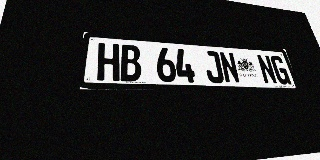4: (174, 48, 196, 83)
6: (155, 47, 177, 82)
B: (120, 44, 142, 82)
G: (269, 55, 292, 85)
H: (97, 43, 120, 81)
J: (202, 50, 225, 83)
N: (219, 52, 241, 84), (256, 54, 278, 84)
